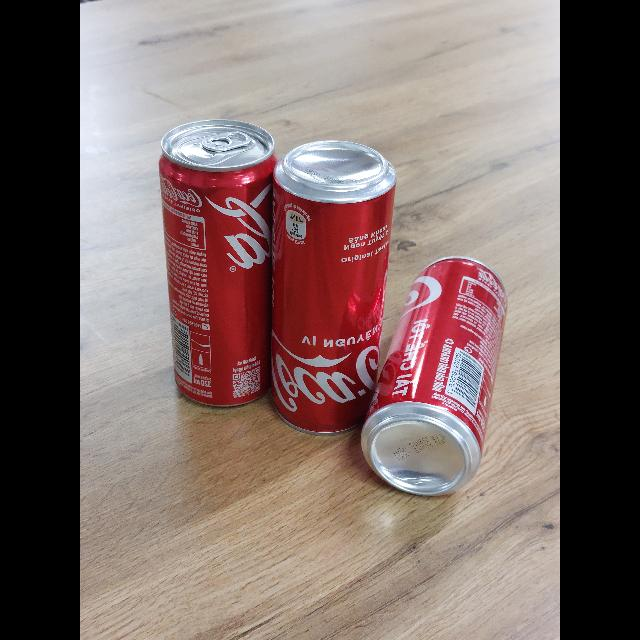coca_cola: (271, 140, 398, 435), (360, 258, 509, 500), (158, 121, 278, 411)
